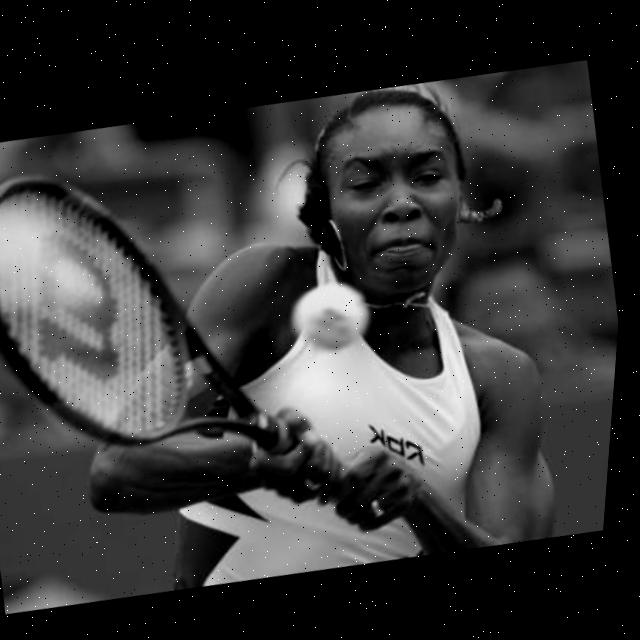face: (286, 79, 497, 321)
